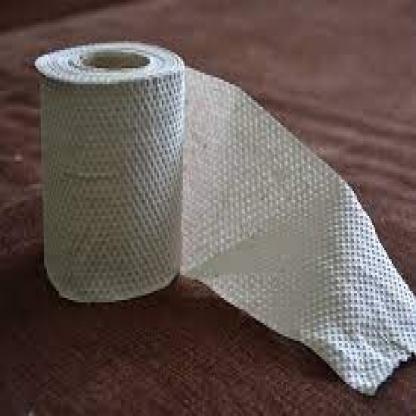tissue: (27, 21, 408, 402)
